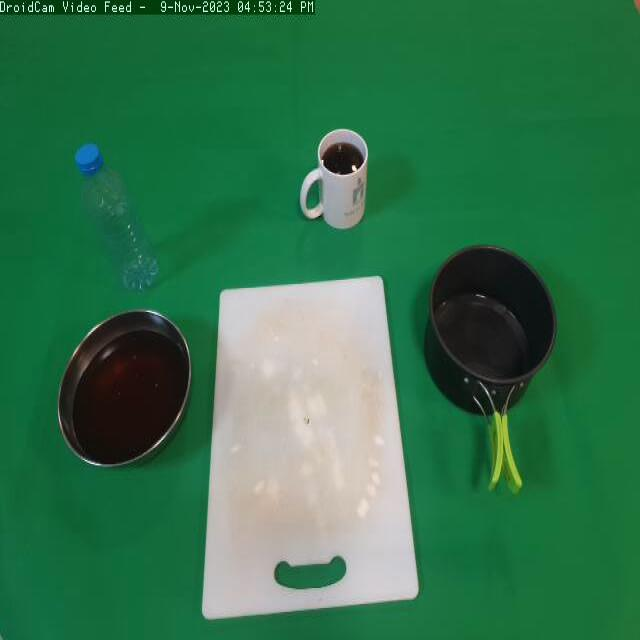bottle: (74, 135, 164, 295)
cutting board: (197, 269, 430, 640)
fullbowl: (49, 298, 195, 470)
fullcup: (295, 118, 376, 238)
pot: (416, 234, 578, 502)
